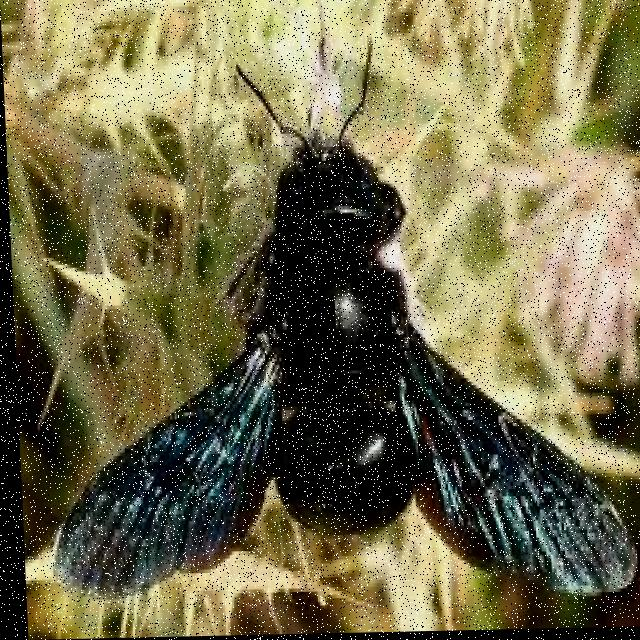Xylocopa: (5, 20, 640, 639)
